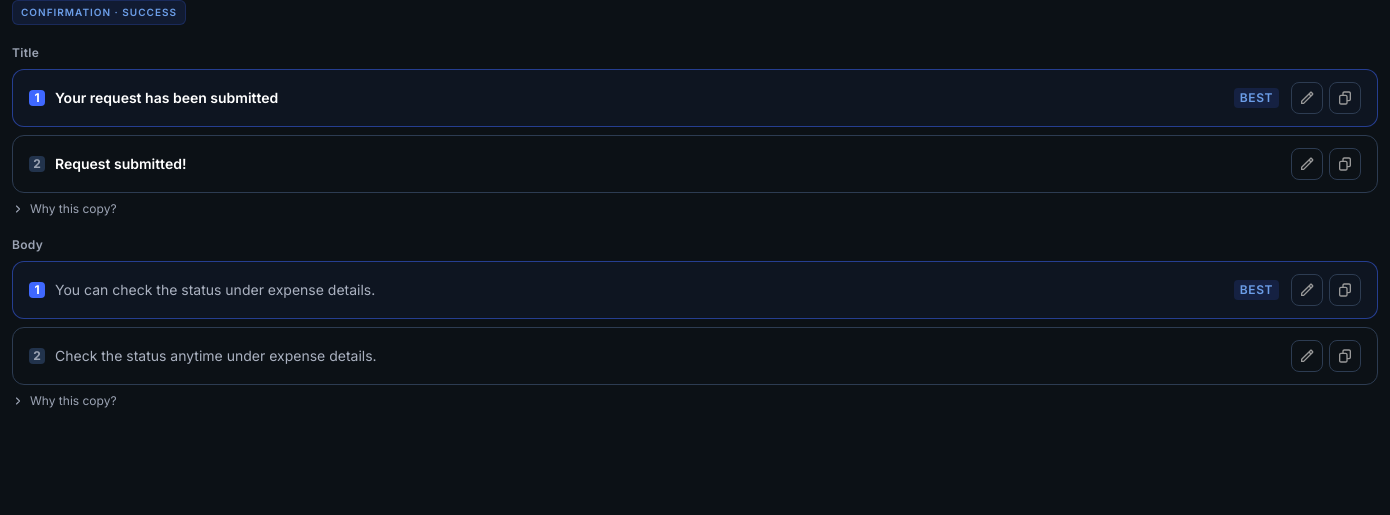
Test: Rewrite panel › opens panel on Rewrite click
Click the button named "rewrite" in the row of "Your request has been submitted": (1307, 98) [1291,82,1323,114]
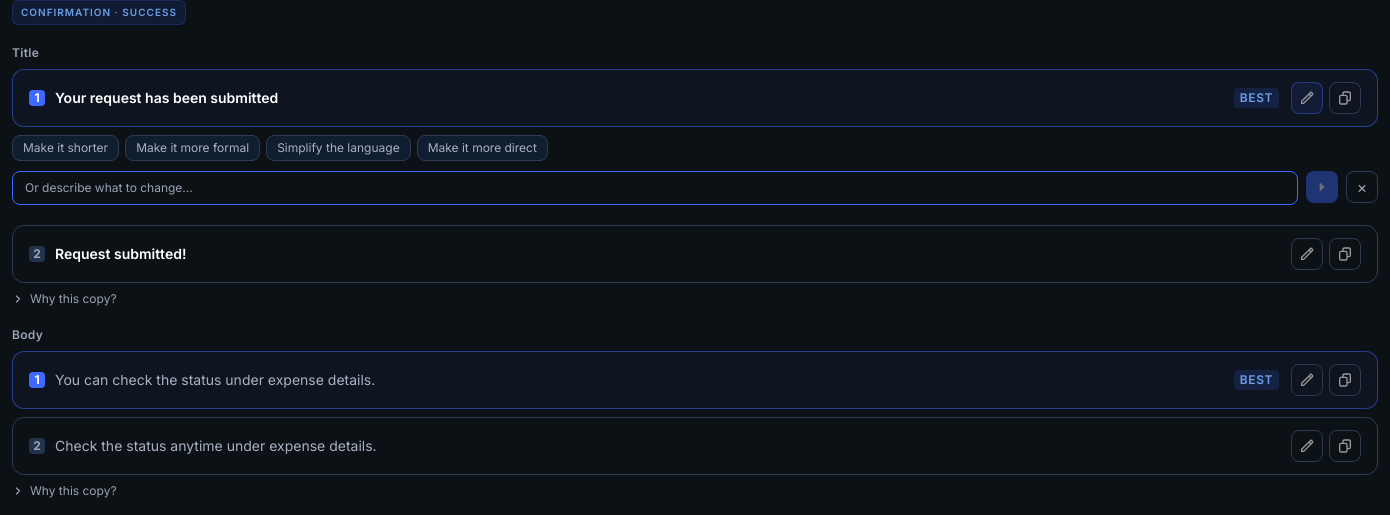
Expected: the field with placeholder "Or describe what to change..." is shown, [12,171,1298,205]
